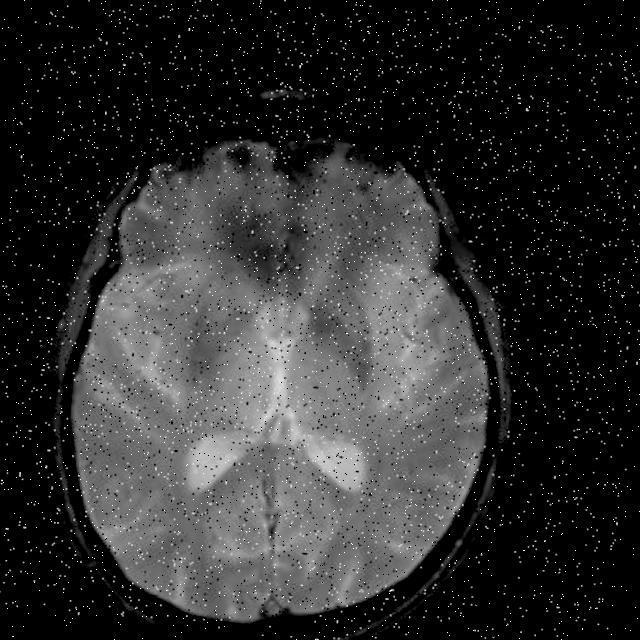EMCI: (234, 178, 350, 290), (325, 293, 402, 377)
